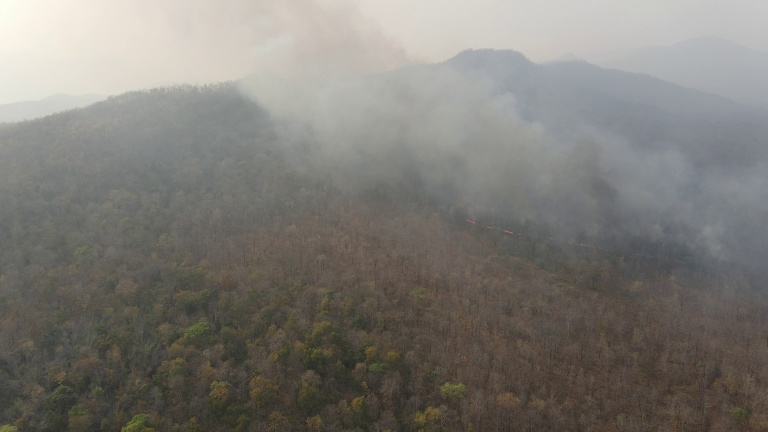fire: (461, 210, 520, 240), (548, 232, 593, 254)
smoke: (197, 2, 570, 217), (554, 122, 768, 261)
